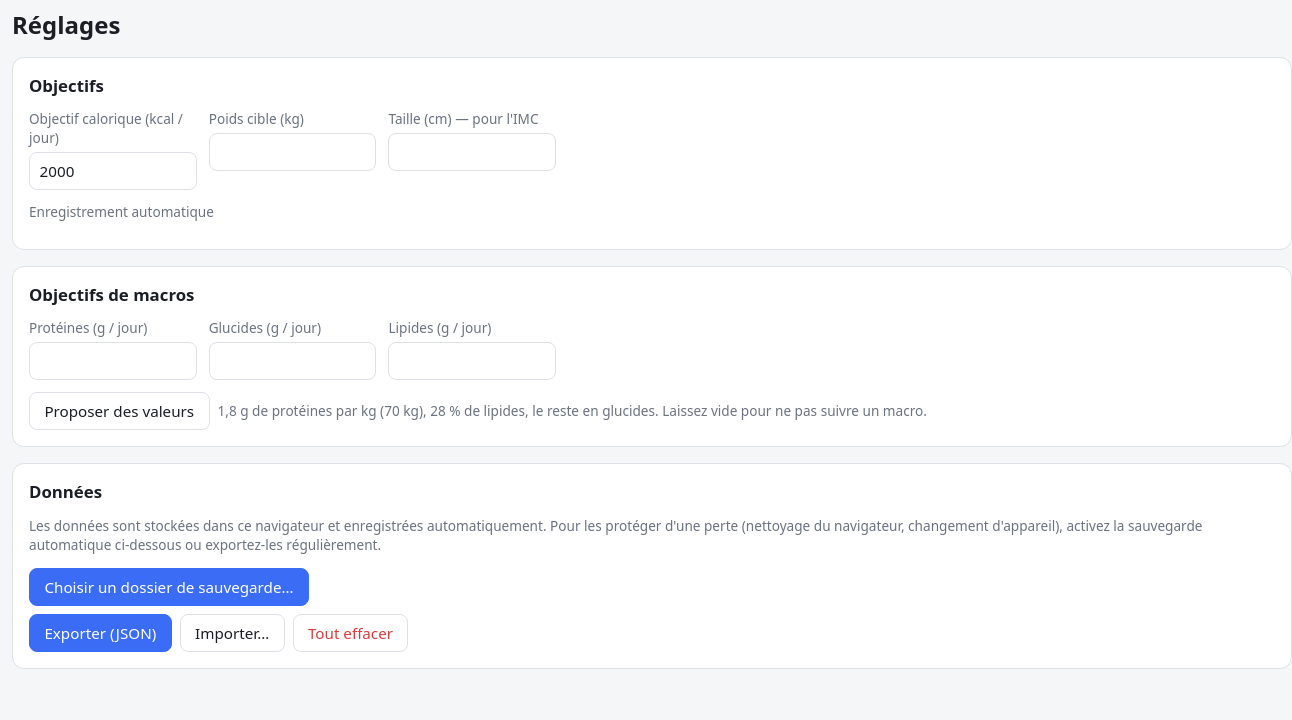
Test: Settings › propose des objectifs de macros à partir du dernier poids
The image size is (1292, 720).
Click the button "Proposer des valeurs" at (119, 411), box [29,392,210,430]
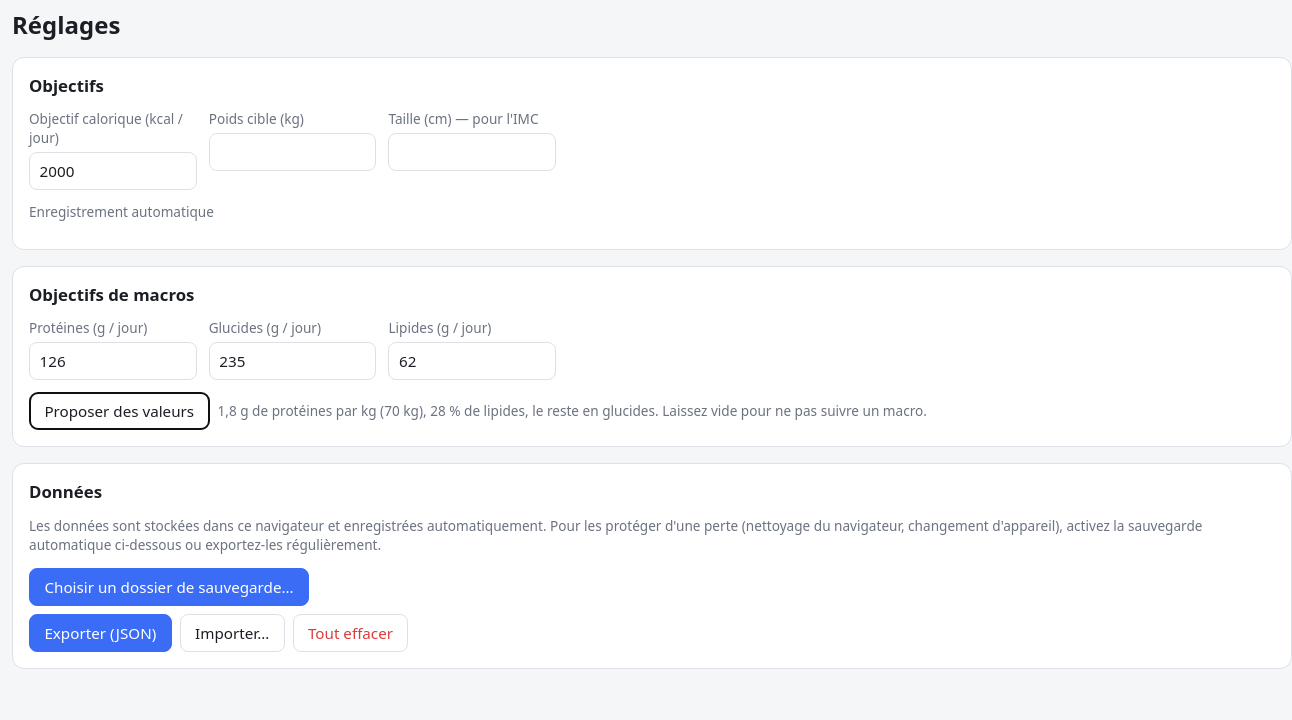
Check: the field labelled "Protéines (g / jour)" holds "126", box [29,342,197,380]
